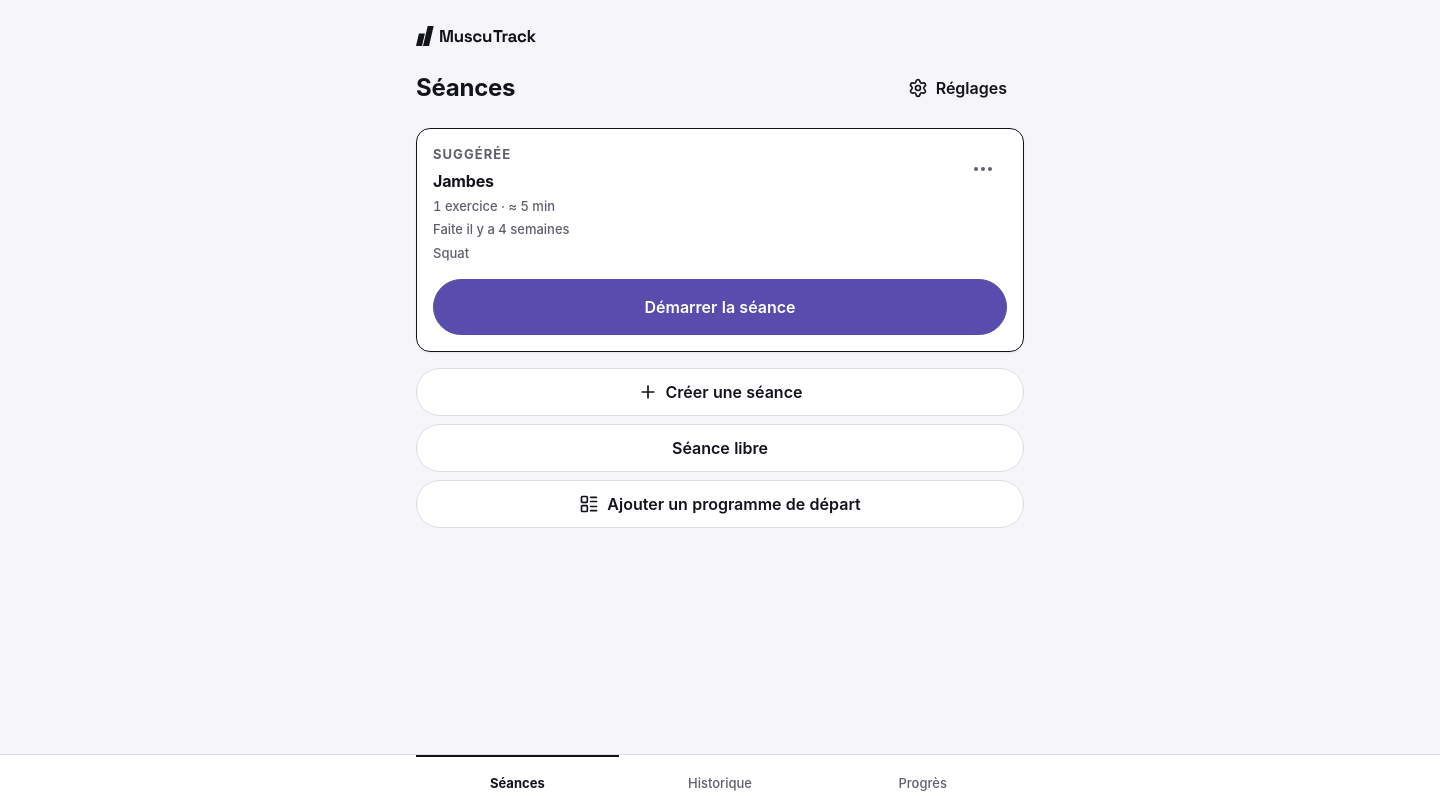
Test: parcours séance › affiche les nouveaux records dans le résumé
Step 1. Click the button with aria-label "Démarrer la séance Jambes" → (720, 307), box [433, 279, 1007, 335]
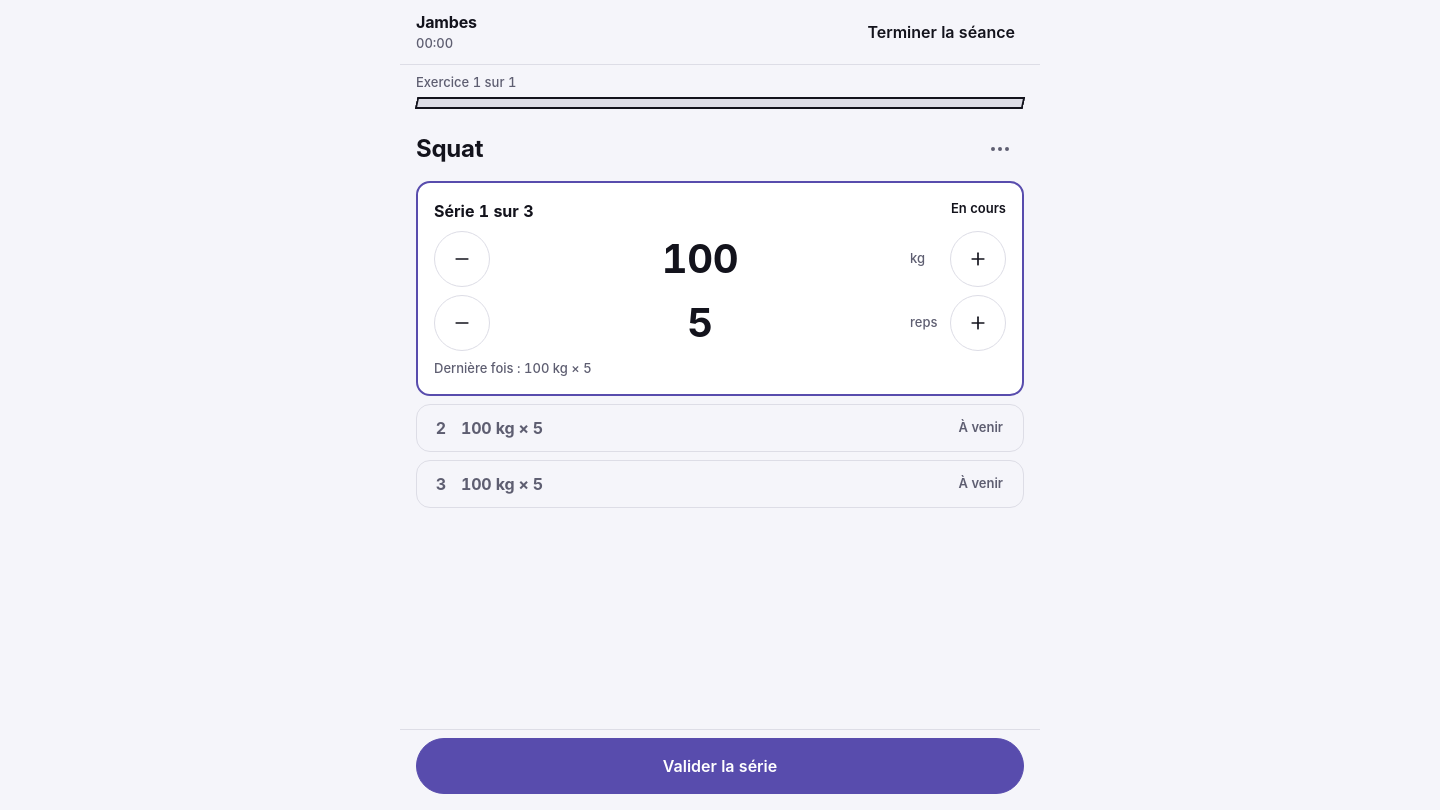
Now the list item "Série 1 sur 3 En cours kg reps Dernière fois : 100 kg × 5" is shown, box [416, 180, 1024, 396]
Now the 1st field named "Charge (kg)" holds "100"
Step 2. Replace the text in the 1st field named "Charge (kg)" with "110" → (700, 258), box [498, 230, 902, 286]
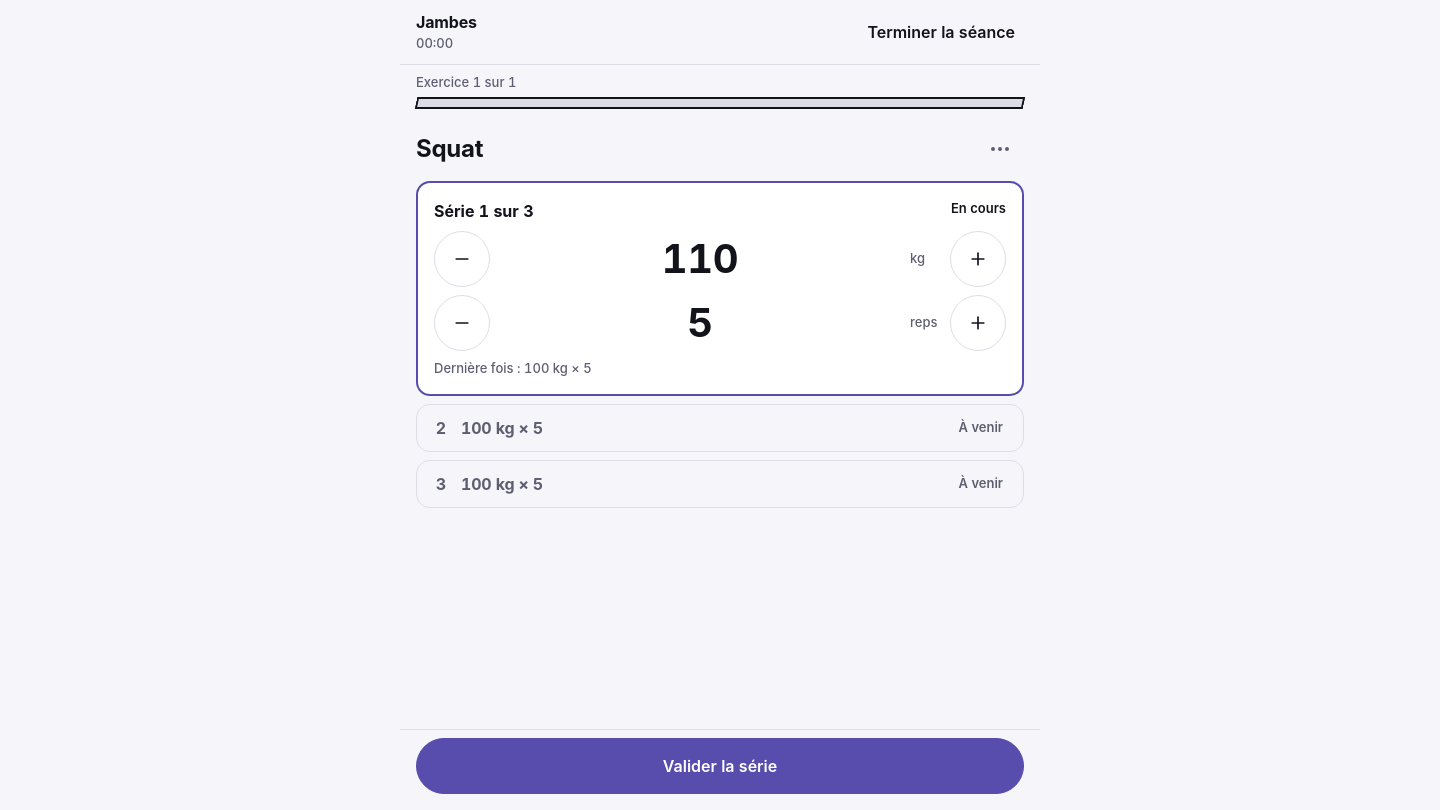
Step 3. Click the button "Valider la série" → (720, 766), box [416, 738, 1024, 794]
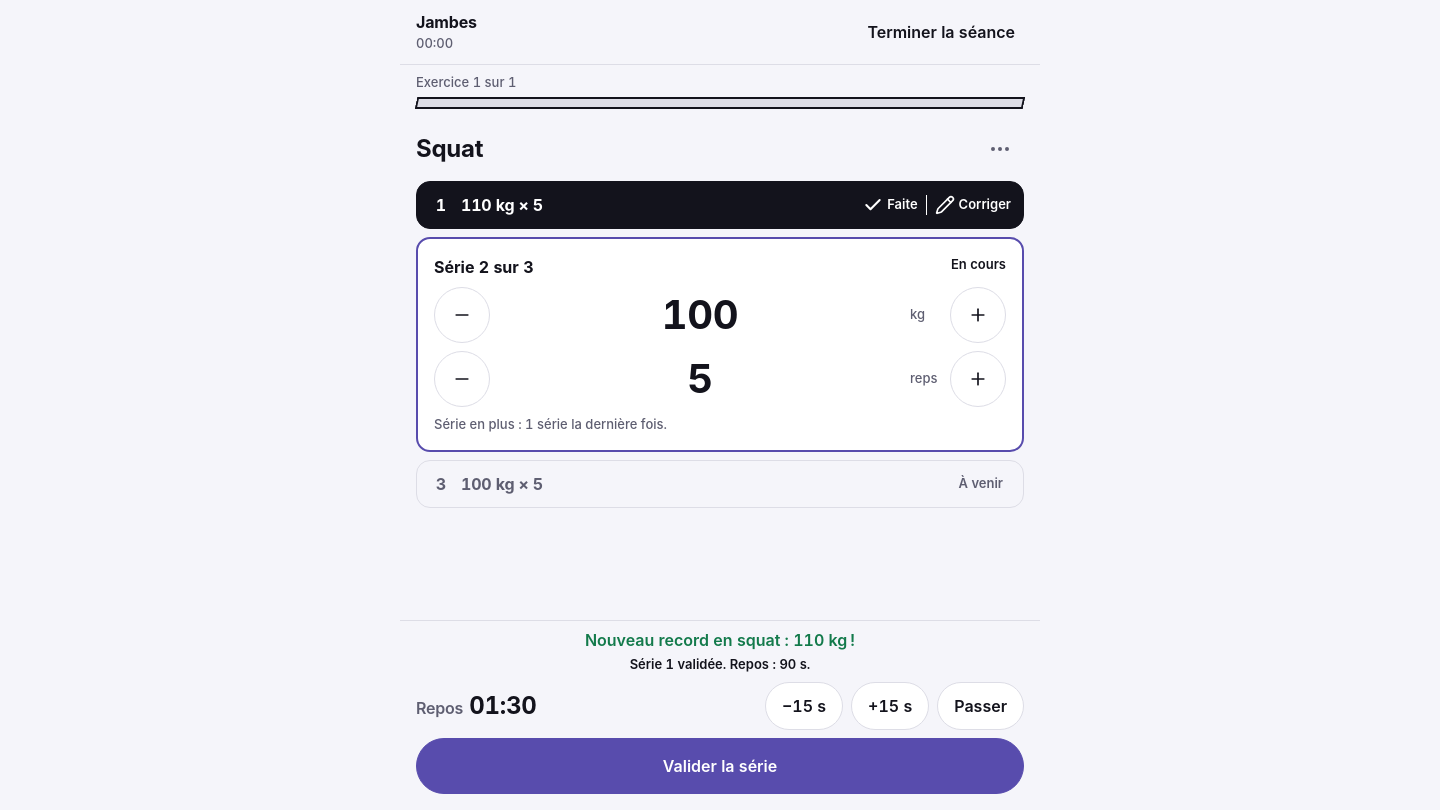
Step 4. Click the button "Terminer la séance" → (941, 32), box [858, 8, 1024, 56]
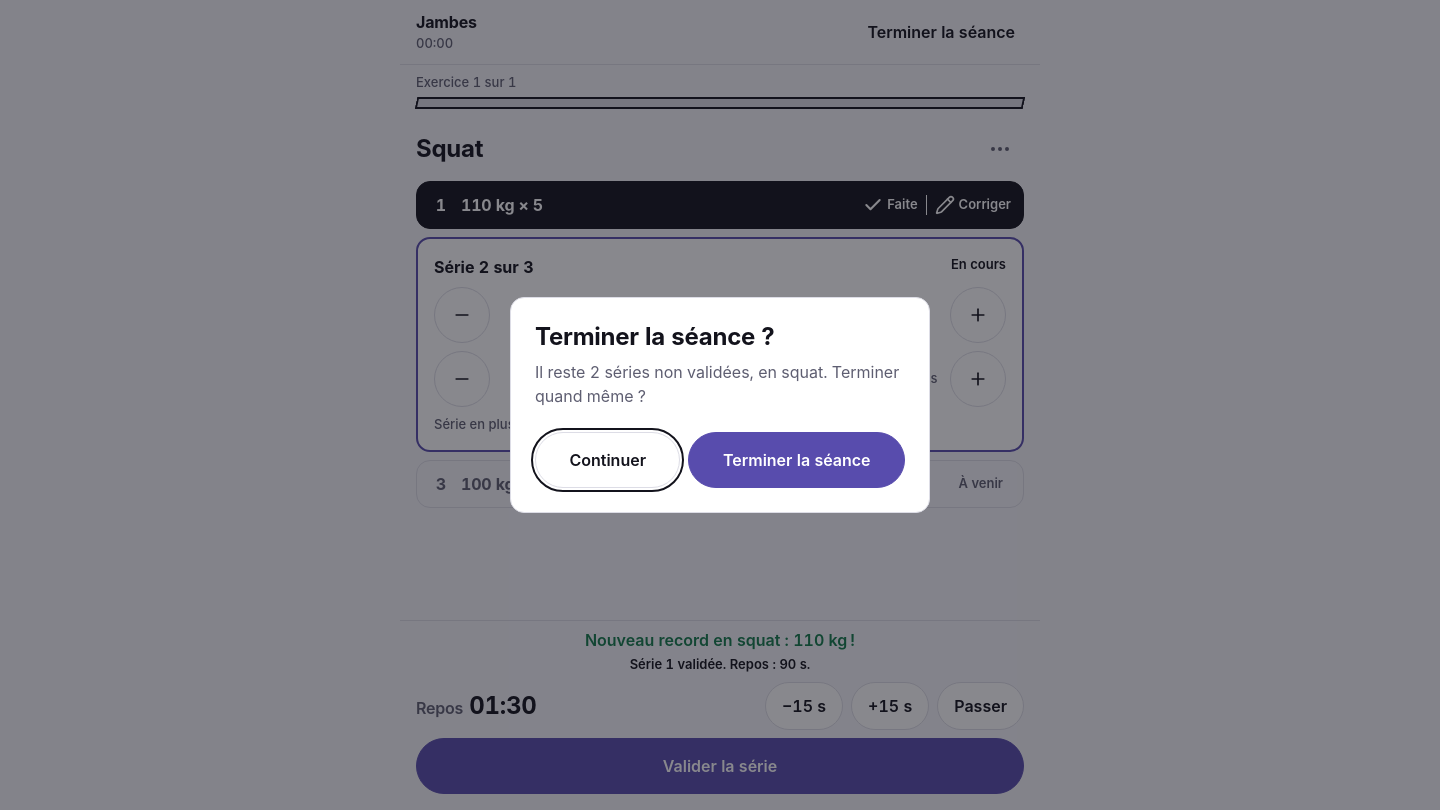
Step 5. Click the button "Terminer la séance" → (797, 460), box [688, 432, 905, 488]
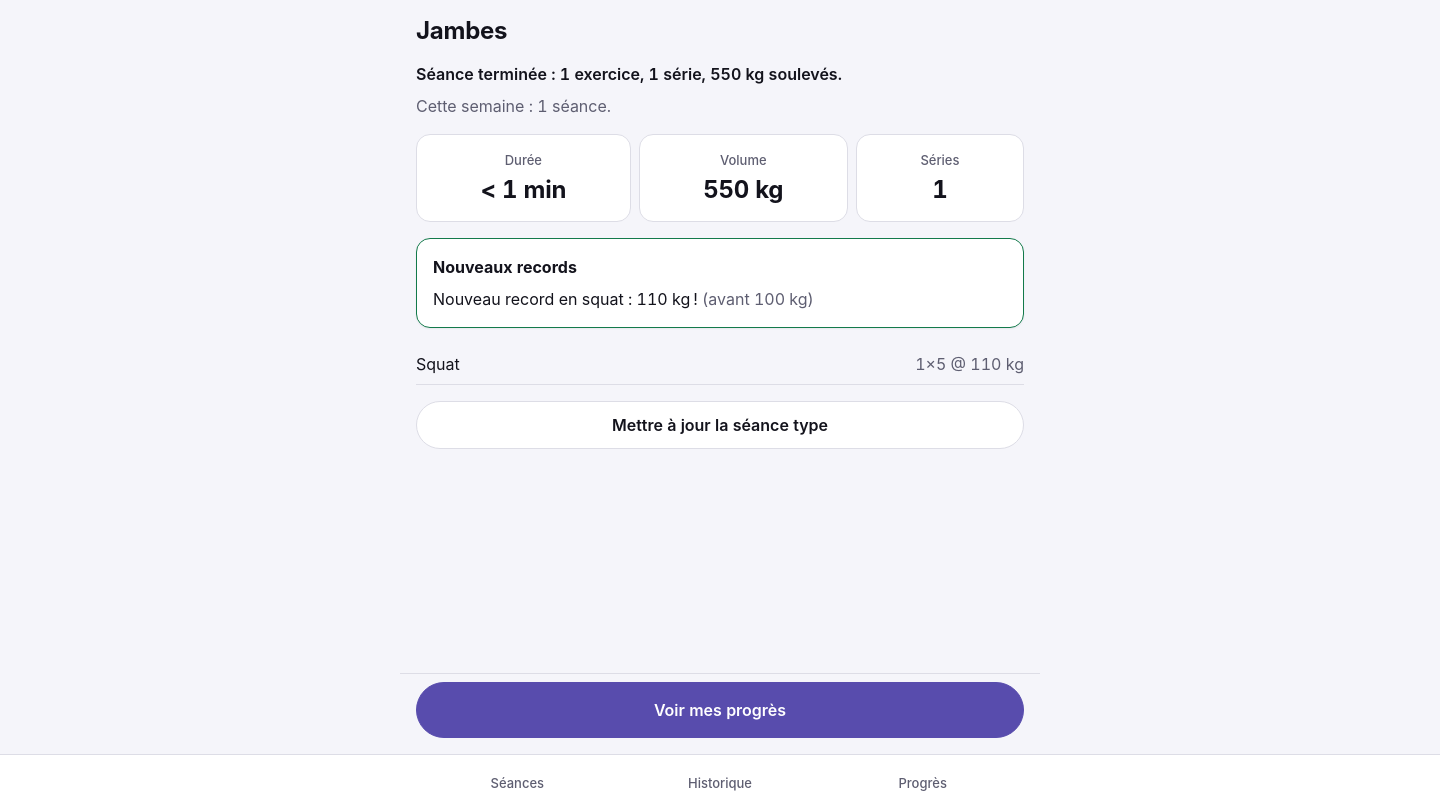
Now the heading "Nouveaux records" is shown, box [433, 256, 577, 276]
Now the number of list items "Nouveau record en squat : 110 kg ! (avant 100 kg)" is 1, box [433, 288, 814, 308]
